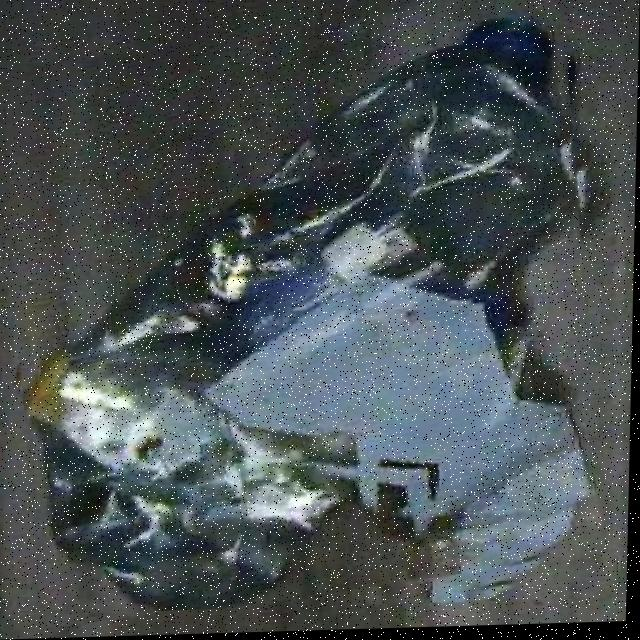plasticbottle: (4, 3, 608, 616)
